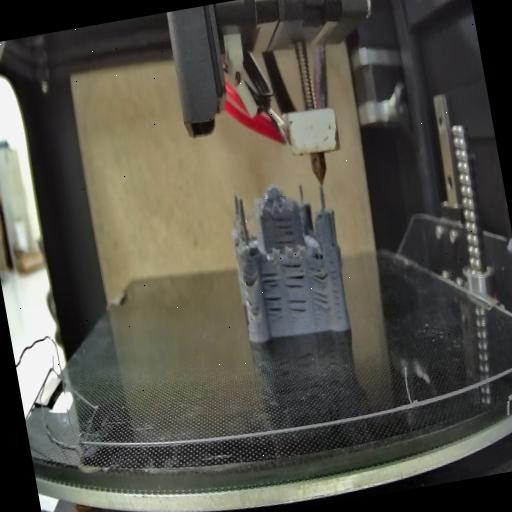cracks: (327, 258, 345, 322), (280, 258, 307, 294), (270, 208, 294, 248), (263, 292, 286, 321), (307, 262, 330, 288), (286, 295, 308, 319), (258, 266, 280, 290), (311, 290, 330, 315), (240, 263, 258, 288), (243, 296, 259, 316)
